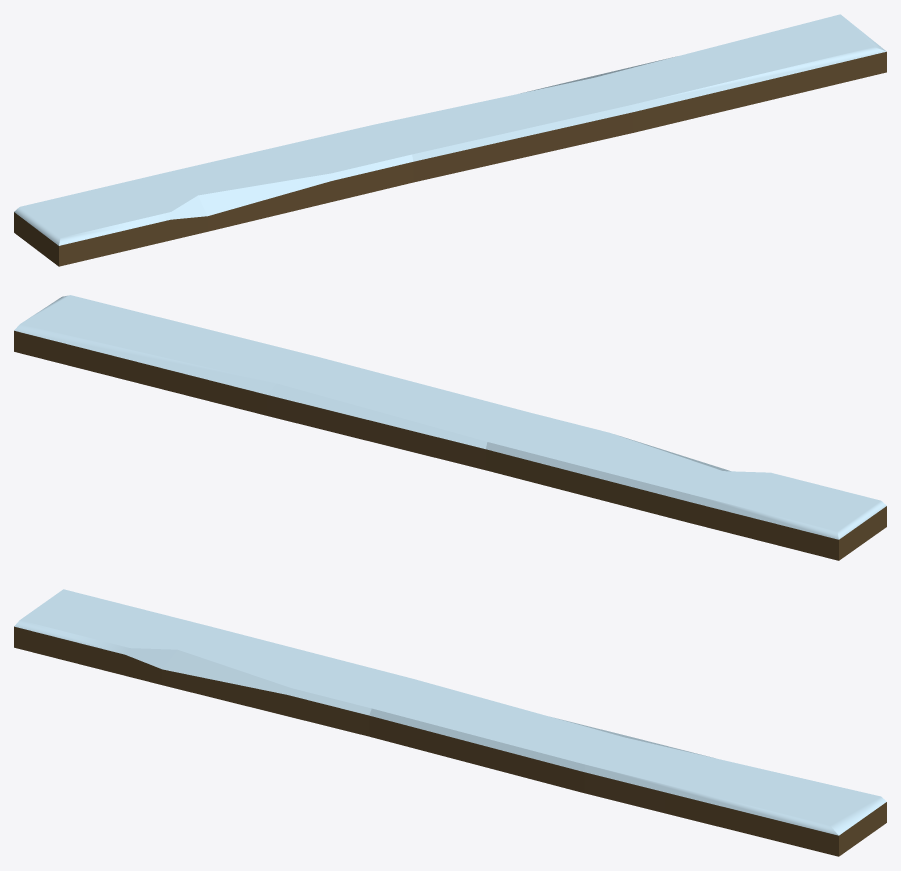
The model's file is model_polytope_snow_wood_plank.fbx.
The picture shows the model from 3 angles, top to bottom: view 1: azimuth 30°, elevation 25°; view 2: azimuth 150°, elevation 25°; view 3: azimuth 330°, elevation 25°; orthographic projection.
Visible parts, largest first — view 1: model_polytope_snow_wood_plank; view 2: model_polytope_snow_wood_plank; view 3: model_polytope_snow_wood_plank.
Boxes of the visible parts, x1=… form: model_polytope_snow_wood_plank: x1=14, y1=14, x2=886, y2=266; model_polytope_snow_wood_plank: x1=14, y1=295, x2=886, y2=560; model_polytope_snow_wood_plank: x1=14, y1=589, x2=886, y2=856.
Size of the model in its own units: 391 by 12.05 by 44.58.
1 material, 1 textured.
